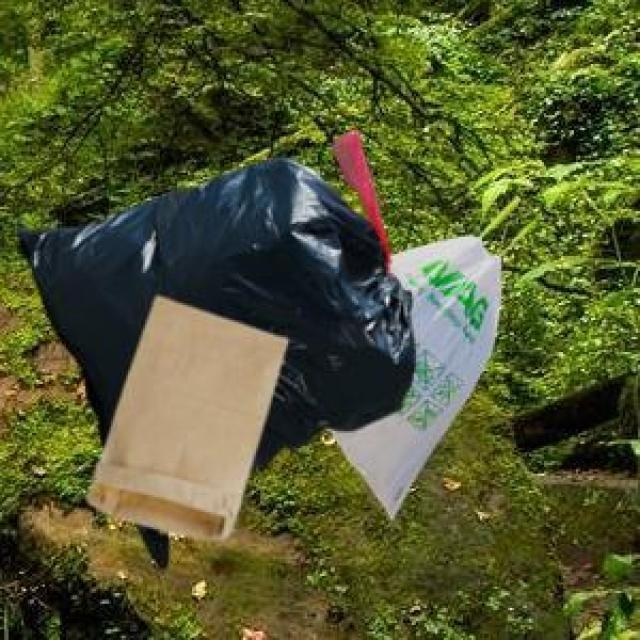miscellaneous trash: (13, 128, 408, 565)
paper: (83, 292, 284, 536)
